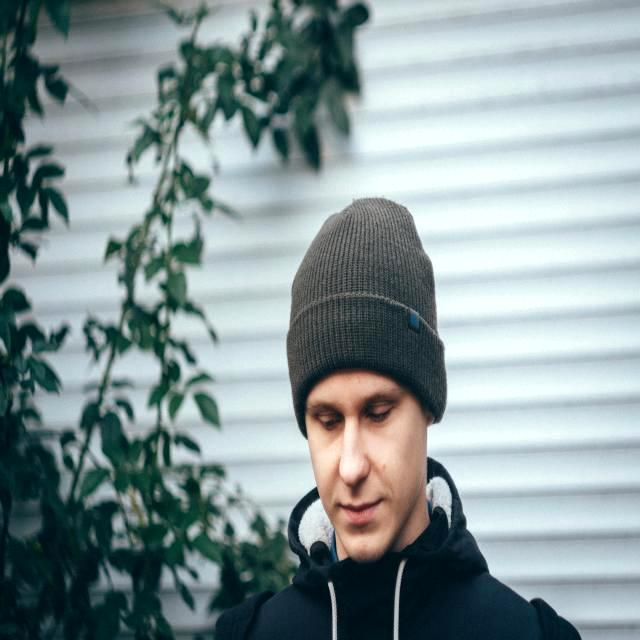no_hard_hat: (287, 198, 447, 421)
person: (215, 189, 588, 638)
